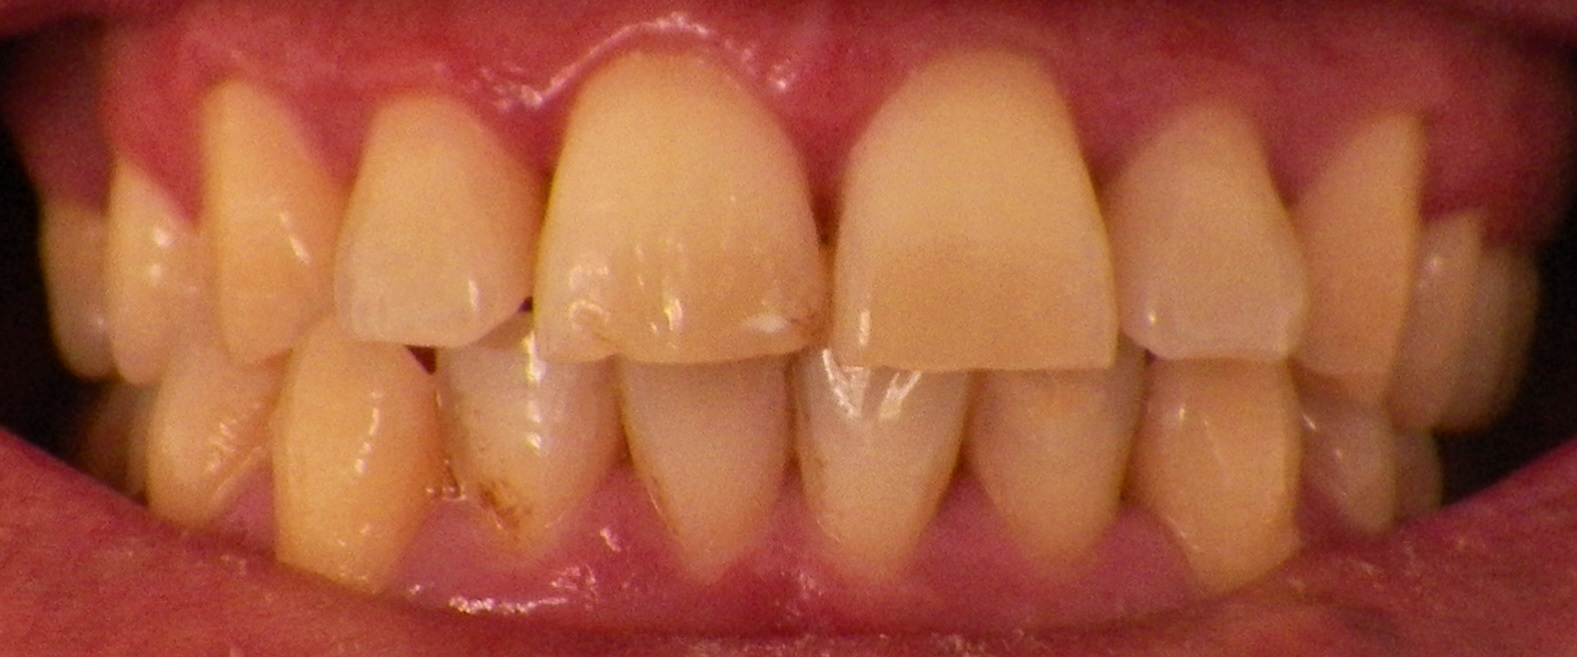boca: (43, 54, 1525, 572)
